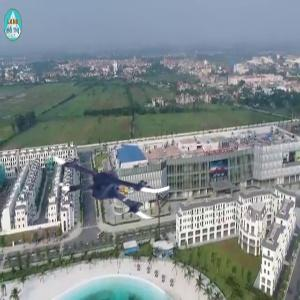drone: (55, 117, 174, 236)
